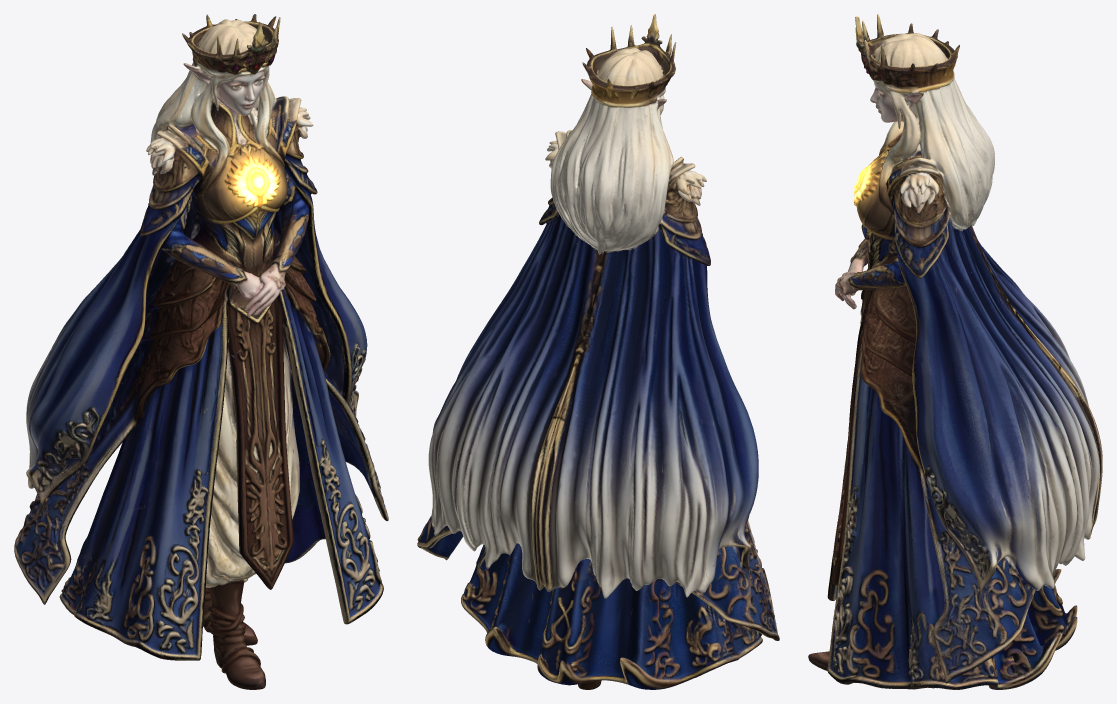
Rendered from auren.glb.
The picture shows the model from 3 angles, left to right: view 1: azimuth 30°, elevation 25°; view 2: azimuth 150°, elevation 25°; view 3: azimuth 270°, elevation 25°; orthographic projection. The views are drawn at different scales.
Bounding box in the file's own units: 0.0853 × 0.15 × 0.0605.
1 material, 1 textured.
